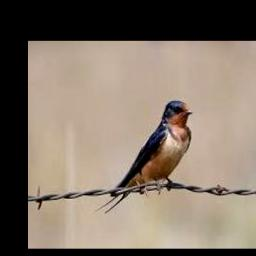Swallow: (95, 101, 193, 212)
